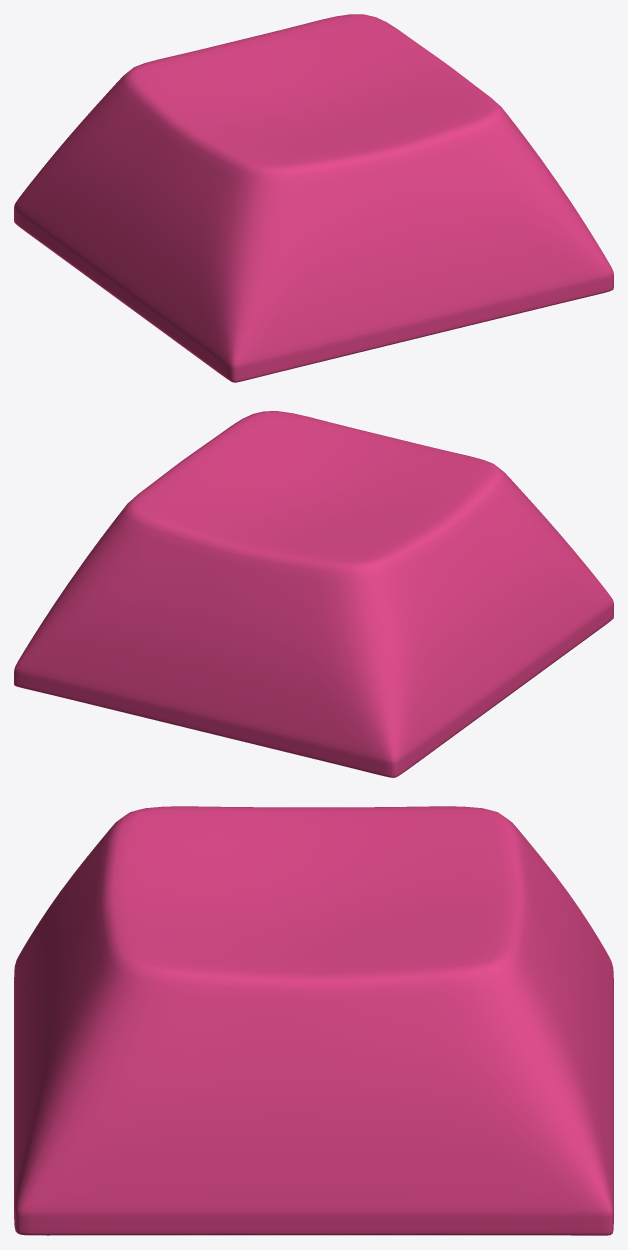
Rendered from DSAKeycap.glb.
The picture shows the model from 3 angles, top to bottom: view 1: azimuth 30°, elevation 25°; view 2: azimuth 150°, elevation 25°; view 3: azimuth 270°, elevation 25°; orthographic projection. The views are drawn at different scales.
Visible parts, largest first — view 1: 1U_Mesh; view 2: 1U_Mesh; view 3: 1U_Mesh.
Part boxes in pixels (x1,y1,x2,y2): 1U_Mesh: (14,14,613,382); 1U_Mesh: (14,411,613,777); 1U_Mesh: (14,806,613,1235).
Size of the model in its own units: 0.018 by 0.00739 by 0.018.
